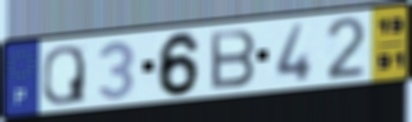2: (324, 15, 368, 83)
3: (96, 38, 138, 102)
4: (273, 21, 314, 84)
6: (155, 29, 205, 98)
B: (208, 27, 259, 92)
Q: (41, 43, 88, 107)
